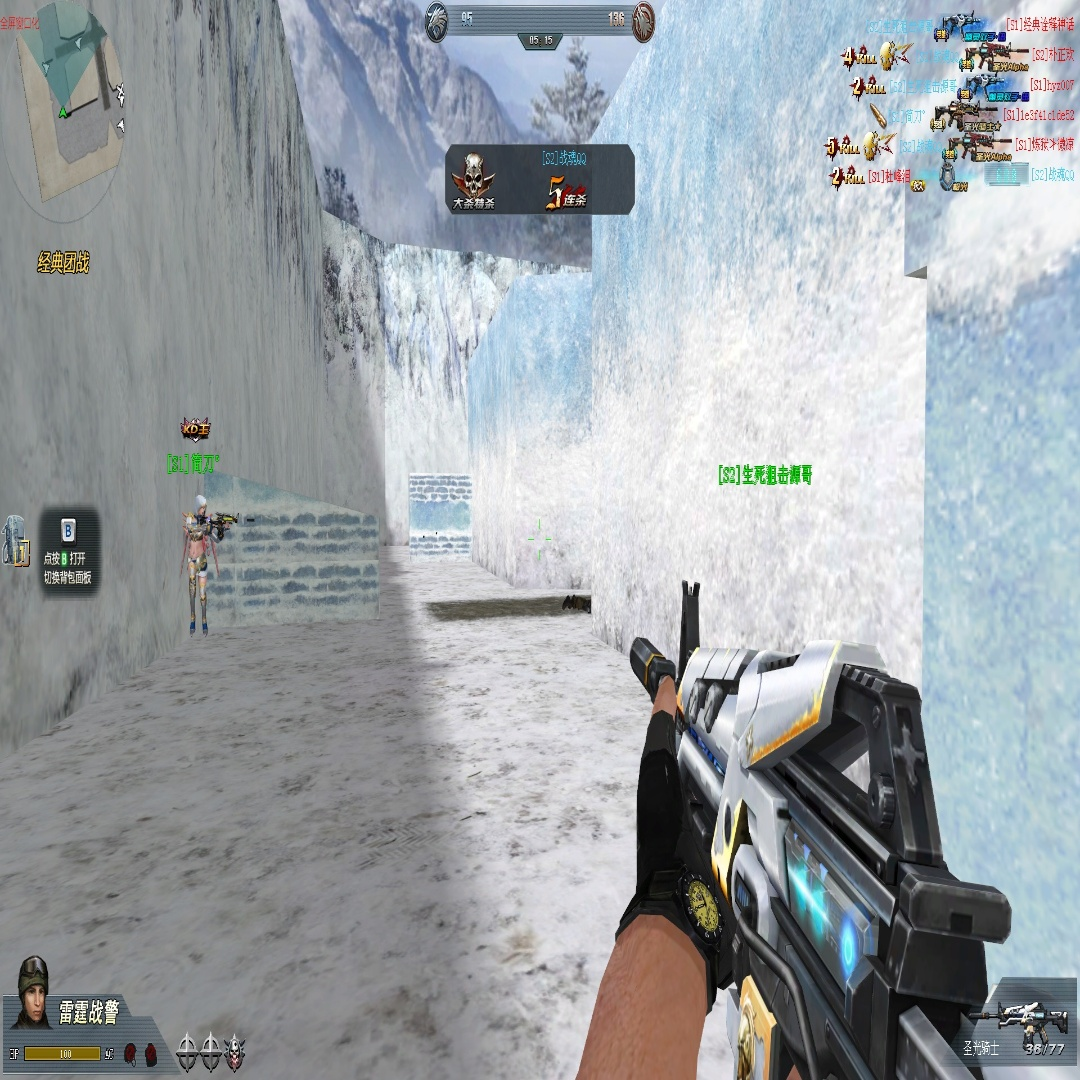ct: (185, 496, 213, 649)
